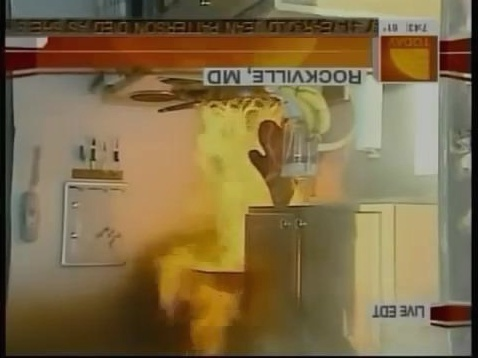fire: (181, 106, 252, 355)
